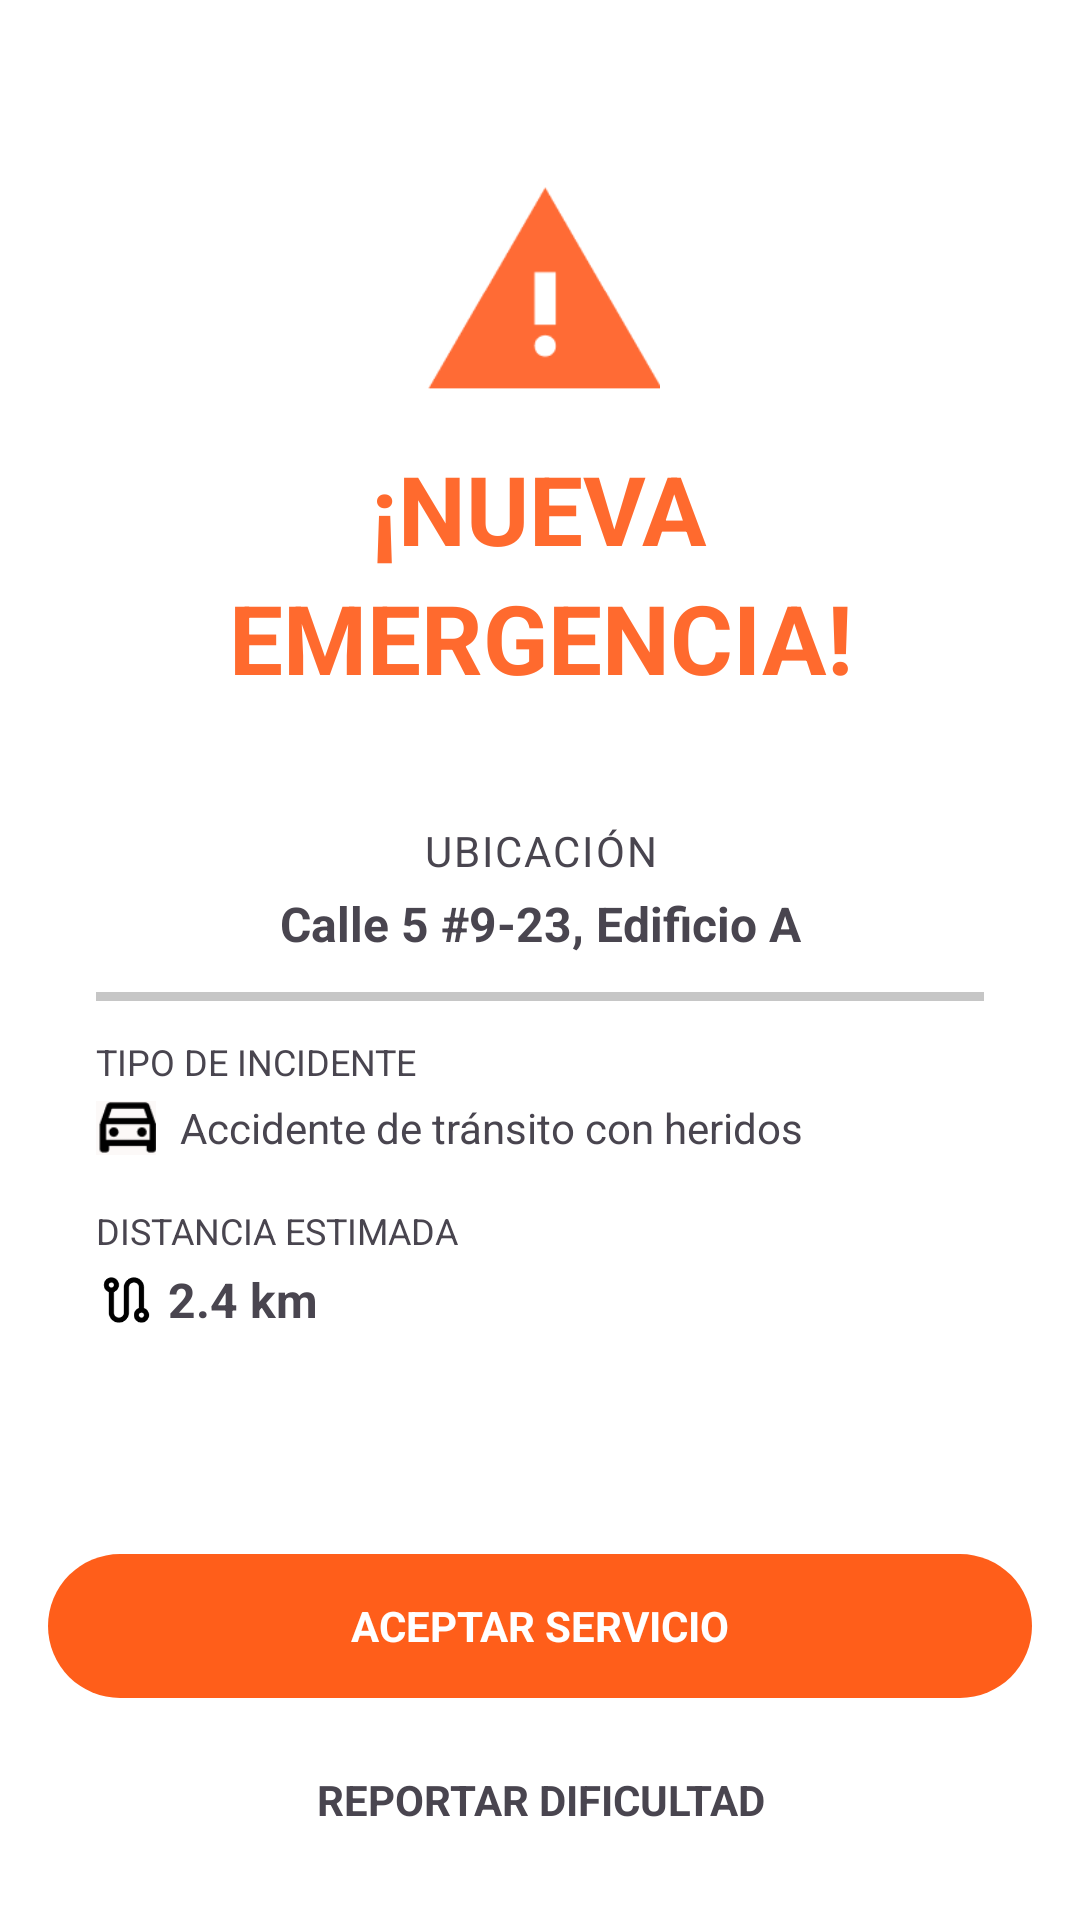

Where to tap for icons on this 1080px×1920px app screen, as (x,y):
carro: (127,1127)
triangulo: (544,288)
